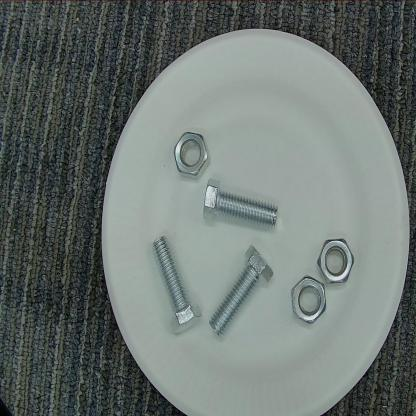FOD: (206, 241, 275, 340), (148, 233, 204, 337), (201, 176, 280, 233), (315, 235, 355, 286), (290, 273, 328, 326), (172, 130, 210, 180)
